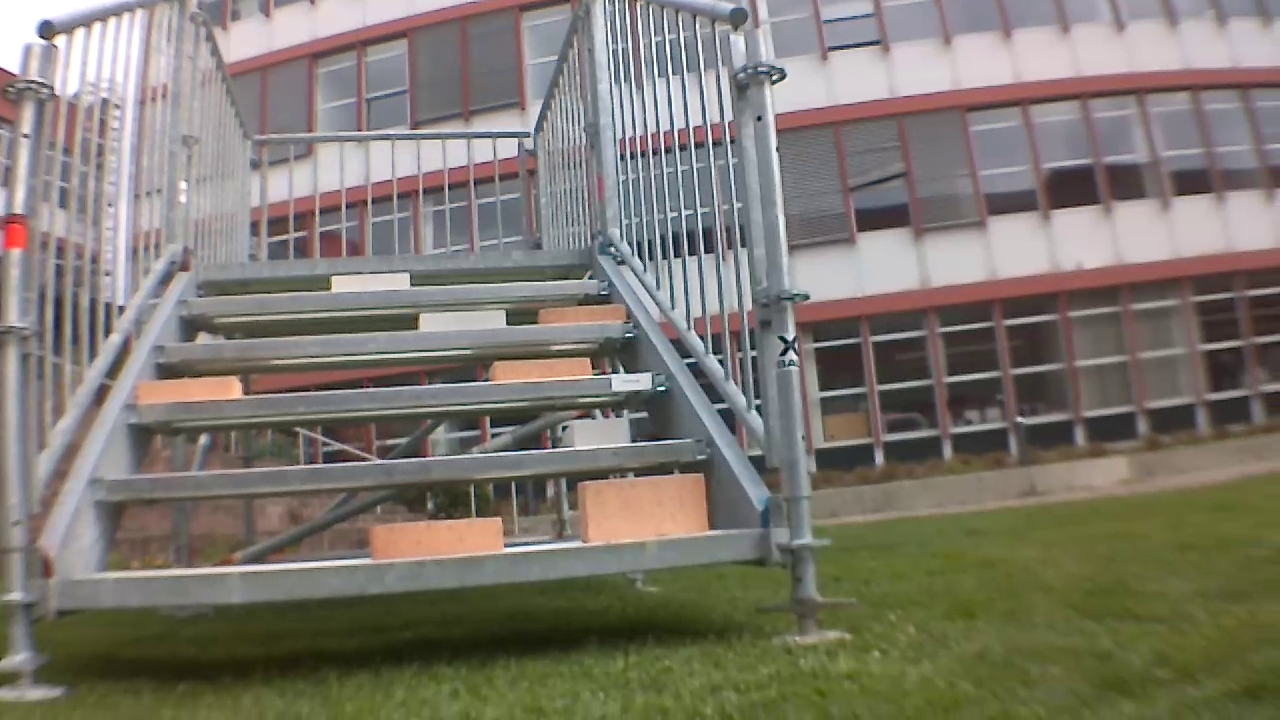brick: (582, 472, 706, 545), (363, 518, 511, 564), (129, 375, 244, 406), (488, 354, 597, 381), (559, 415, 635, 447), (413, 309, 514, 333), (532, 304, 629, 328), (332, 267, 415, 293)
edge: (53, 530, 790, 611), (92, 437, 707, 507), (126, 375, 675, 428), (180, 282, 611, 326), (196, 248, 595, 284), (162, 343, 642, 361)
stairs: (4, 2, 802, 669)
steps: (10, 257, 813, 607)
